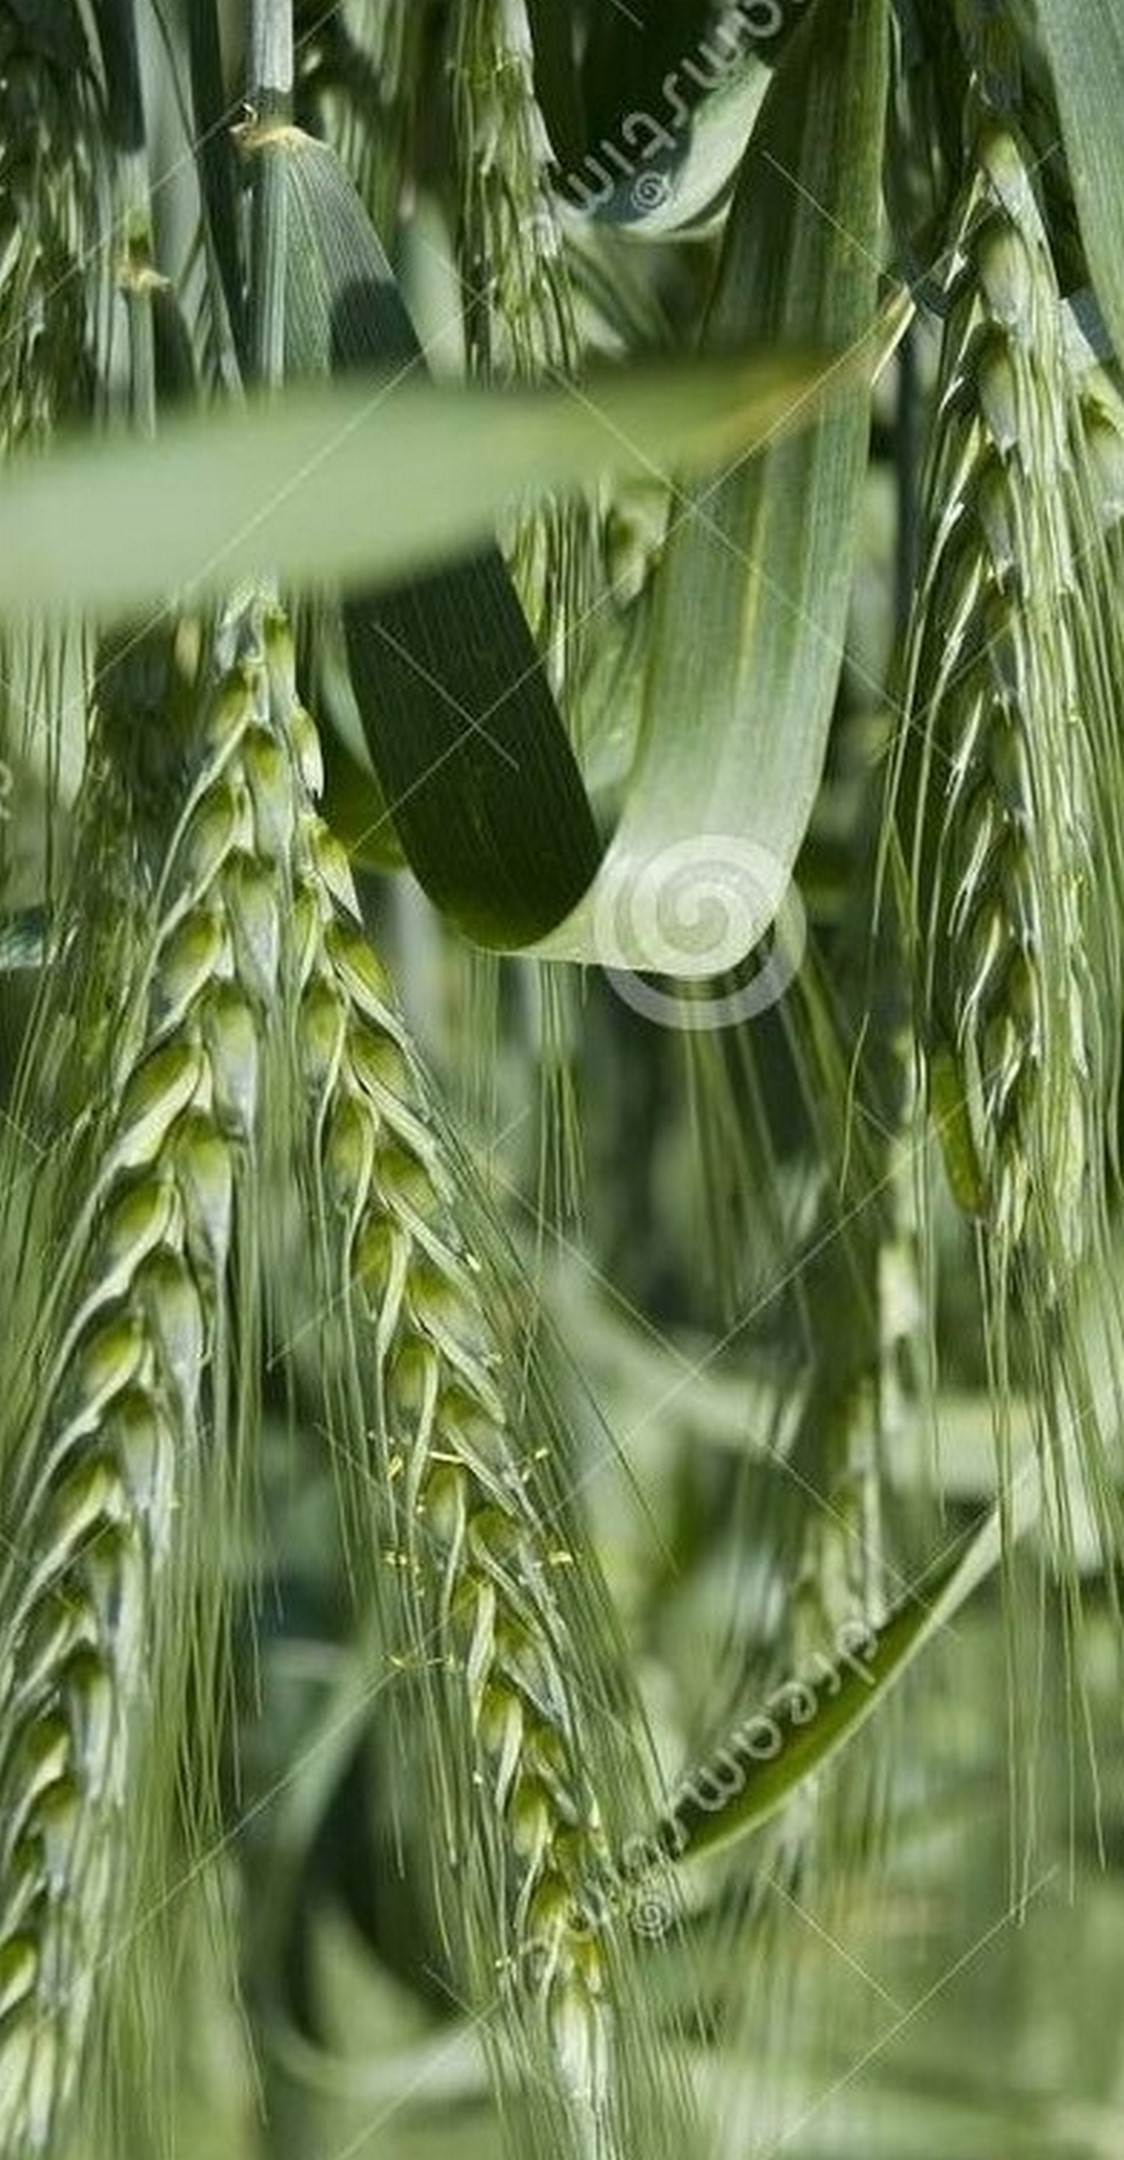Healthy Wheat: (274, 790, 573, 1946), (875, 203, 1124, 1269)
